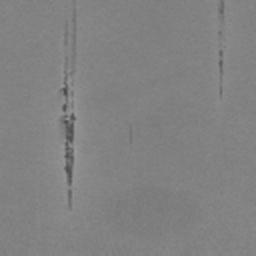Slag inclusion: (60, 8, 77, 100), (60, 114, 76, 186), (218, 49, 224, 82), (218, 0, 225, 25), (67, 189, 73, 211), (129, 124, 133, 144)
